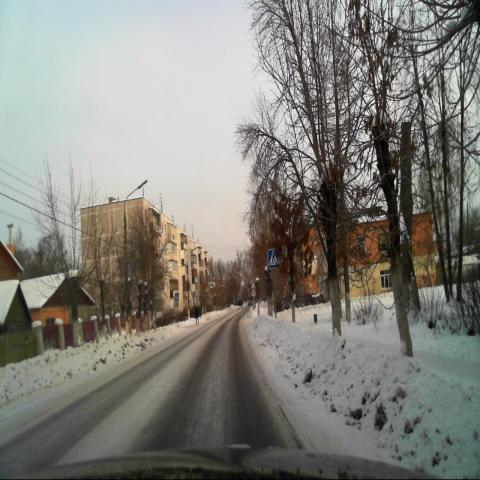5_19_1: (267, 248, 280, 269)
